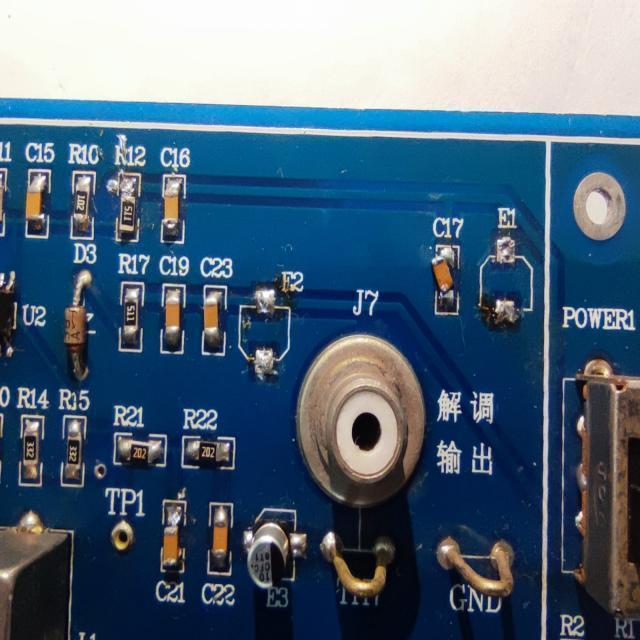Missing component: (238, 268, 305, 381), (478, 208, 536, 326)
